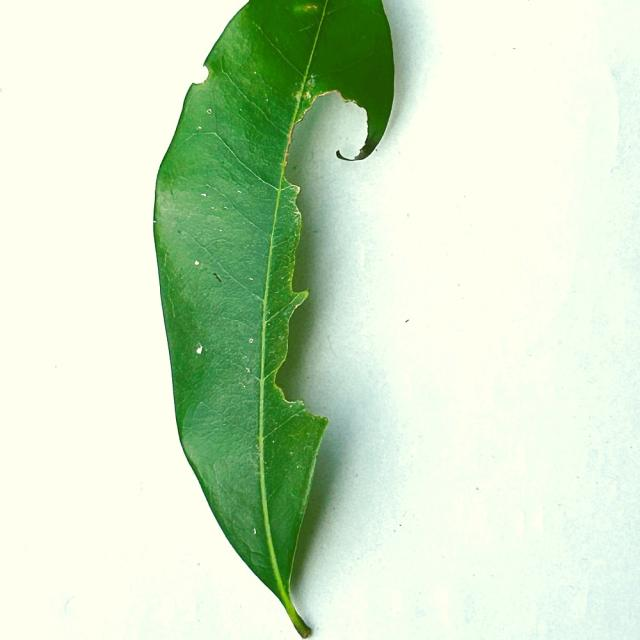Deficiency Leaf: (284, 97, 393, 442), (202, 70, 204, 76)
Lychee: (152, 0, 396, 639)
